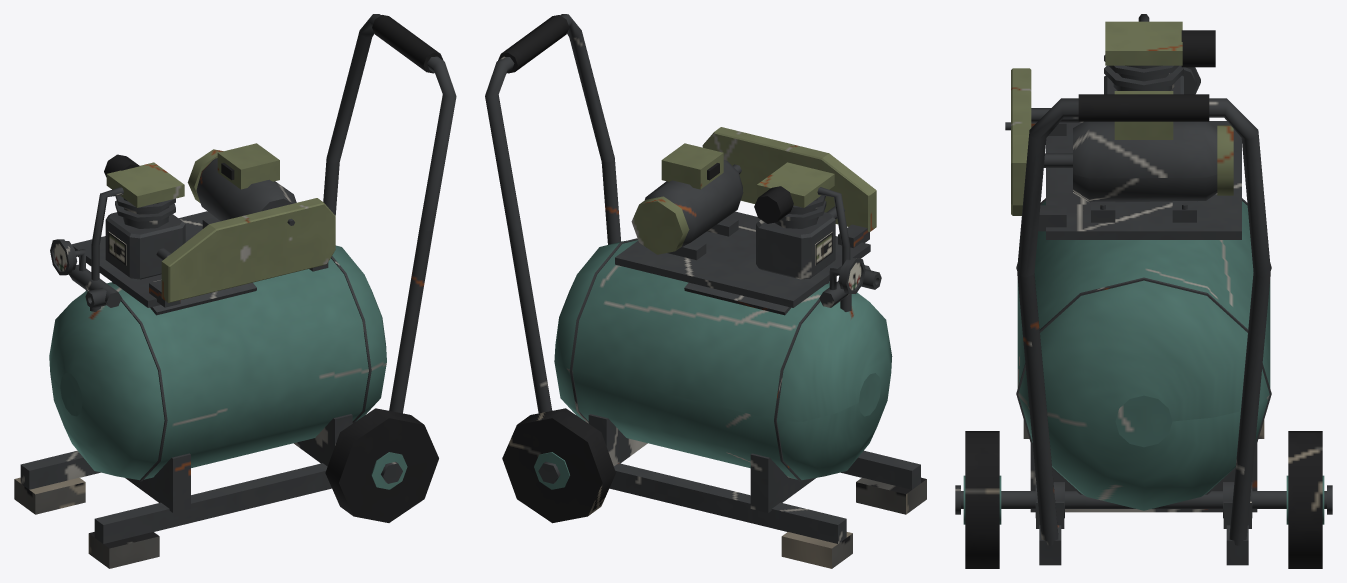
File: industry_air_compressor_horizontal.glb
3 renders of one model, left to right at view 1: azimuth 30°, elevation 25°; view 2: azimuth 150°, elevation 25°; view 3: azimuth 270°, elevation 25°, orthographic. The views are drawn at different scales.
Parts seen in each view (by area): view 1: AirCompressor; view 2: AirCompressor; view 3: AirCompressor.
Part boxes in pixels (left/top/right/bottom): AirCompressor: left=14, top=14, right=456, bottom=568; AirCompressor: left=485, top=14, right=926, bottom=568; AirCompressor: left=955, top=14, right=1332, bottom=568.
Size of what is drawn, in the model's own units: 0.638 by 0.713 by 0.463.
1 material, 1 textured.
